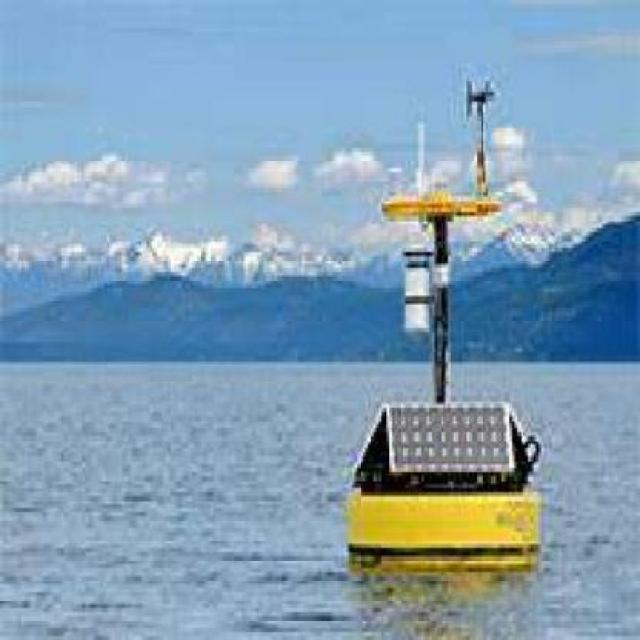buoy: (337, 60, 545, 577)
